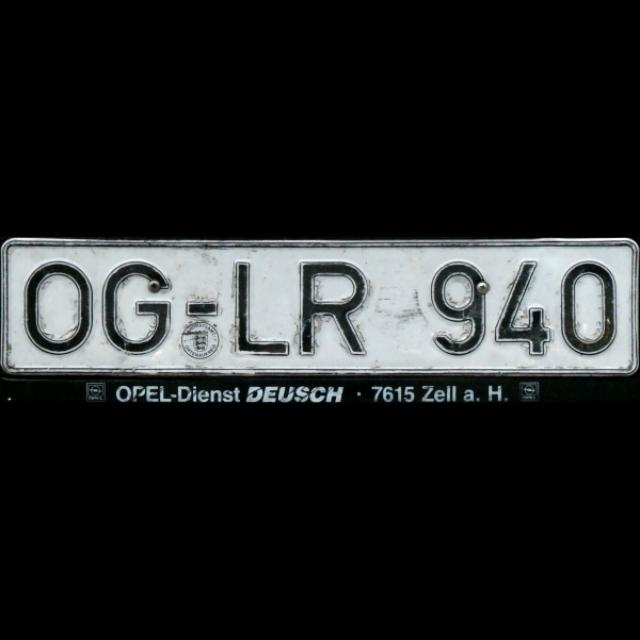d_license_plate: (2, 242, 634, 371)
